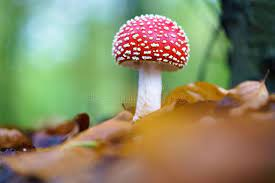Amanita muscaria: (105, 7, 193, 124)
